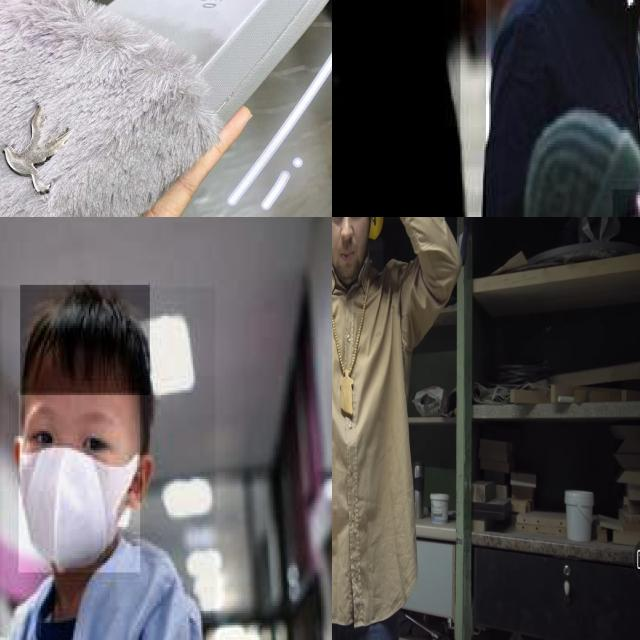Ear-protection: (332, 217, 388, 289)
No_Ear-Protection: (13, 392, 125, 464)
Sandals: (0, 0, 332, 217)
face_mask: (19, 392, 140, 572)
head_nohelmet: (20, 285, 152, 397)
person: (0, 287, 217, 640), (332, 217, 461, 640), (486, 0, 640, 217), (332, 0, 461, 217)
